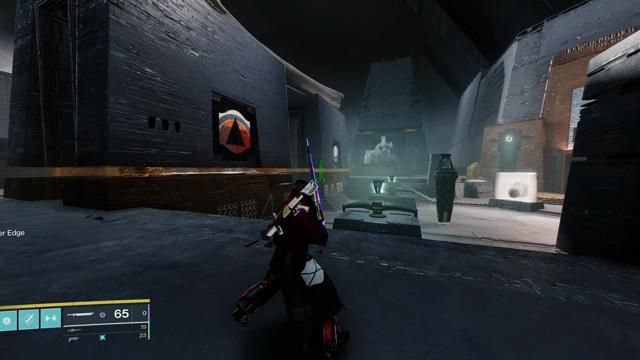pyramid: (219, 110, 250, 153)
traveler: (333, 145, 338, 163)
